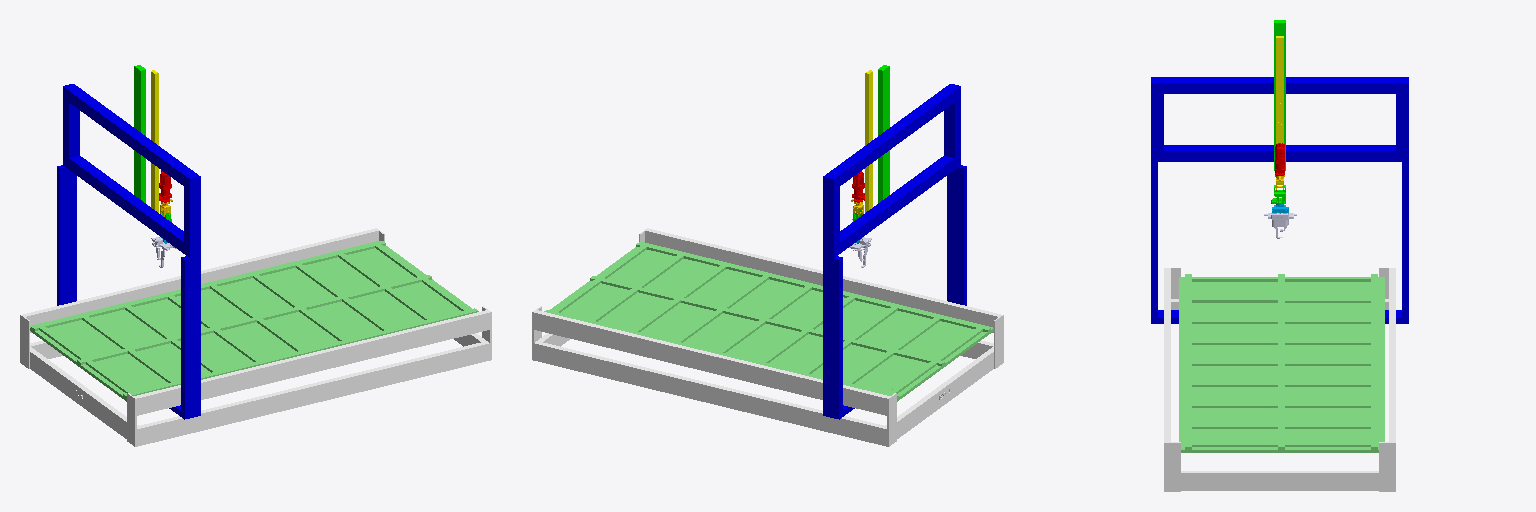
The robot description file, URDF, robot "gantry_robot":
<?xml version="1.0" encoding="utf-8"?>
<!-- =================================================================================== -->
<!-- |    This document was autogenerated by xacro from gantry_robot.urdf.xacro        | -->
<!-- |    EDITING THIS FILE BY HAND IS NOT RECOMMENDED                                 | -->
<!-- =================================================================================== -->
<robot name="gantry_robot">
  <gazebo>
    <plugin filename="libgazebo_ros_control.so" name="ros_control">
      <!--robotNamespace>/slave</robotNamespace-->
      <!--robotSimType>gazebo_ros_control/DefaultRobotHWSim</robotSimType-->
      <legacyModeNS>true</legacyModeNS>
    </plugin>
  </gazebo>
  <transmission name="gantryX_trans">
    <type>transmission_interface/SimpleTransmission</type>
    <joint name="gantryX">
      <hardwareInterface>hardware_interface/PositionJointInterface</hardwareInterface>
    </joint>
    <actuator name="gantryX_motor">
      <mechanicalReduction>1</mechanicalReduction>
    </actuator>
  </transmission>
  <transmission name="gantryY_trans">
    <type>transmission_interface/SimpleTransmission</type>
    <joint name="gantryY">
      <hardwareInterface>hardware_interface/PositionJointInterface</hardwareInterface>
    </joint>
    <actuator name="gantryY_motor">
      <mechanicalReduction>1</mechanicalReduction>
    </actuator>
  </transmission>
  <transmission name="gantryZ_trans">
    <type>transmission_interface/SimpleTransmission</type>
    <joint name="gantryZ">
      <hardwareInterface>hardware_interface/PositionJointInterface</hardwareInterface>
    </joint>
    <actuator name="gantryZ_motor">
      <mechanicalReduction>1</mechanicalReduction>
    </actuator>
  </transmission>
  <transmission name="gantryYAW_trans">
    <type>transmission_interface/SimpleTransmission</type>
    <joint name="gantryYAW">
      <hardwareInterface>hardware_interface/PositionJointInterface</hardwareInterface>
    </joint>
    <actuator name="gantryYAW_motor">
      <mechanicalReduction>1</mechanicalReduction>
    </actuator>
  </transmission>
  <transmission name="gantryPITCH_trans">
    <type>transmission_interface/SimpleTransmission</type>
    <joint name="gantryPITCH">
      <hardwareInterface>hardware_interface/PositionJointInterface</hardwareInterface>
    </joint>
    <actuator name="gantryPITCH_motor">
      <mechanicalReduction>1</mechanicalReduction>
    </actuator>
  </transmission>
  <transmission name="gantryROLL_trans">
    <type>transmission_interface/SimpleTransmission</type>
    <joint name="gantryROLL">
      <hardwareInterface>hardware_interface/PositionJointInterface</hardwareInterface>
    </joint>
    <actuator name="gantryROLL_motor">
      <mechanicalReduction>1</mechanicalReduction>
    </actuator>
  </transmission>
  <gazebo reference="gantryX">
    <selfCollide>true</selfCollide>
  </gazebo>
  <gazebo reference="gantryY">
    <selfCollide>true</selfCollide>
  </gazebo>
  <gazebo reference="gantryZ">
    <selfCollide>true</selfCollide>
  </gazebo>
  <gazebo reference="gantryYAW">
    <selfCollide>true</selfCollide>
  </gazebo>
  <gazebo reference="gantryPITCH">
    <selfCollide>true</selfCollide>
  </gazebo>
  <gazebo reference="gantryROLL">
    <selfCollide>true</selfCollide>
  </gazebo>
  <link name="base_link">
    <!-- fixed structure -->
    <inertial>
      <mass value="1.0"/>
      <inertia ixx="1.0" ixy="0.0" ixz="0.0" iyy="1.0" iyz="0.0" izz="1.0"/>
    </inertial>
    <visual>
      <geometry>
        <mesh filename="package://gantry_description/meshes/Simulation_Base.STL"/>
      </geometry>
      <origin rpy="0 0 0" xyz="0.875 0 0"/>
      <material name="white">
        <color rgba="1 1 1 1"/>
      </material>
    </visual>
    <collision>
      <geometry>
        <mesh filename="package://gantry_description/meshes/Simulation_Base.STL"/>
      </geometry>
      <origin rpy="0 0 0" xyz="0.875 0 0"/>
    </collision>
  </link>
  <joint name="gantryX" type="prismatic">
    <parent link="base_link"/>
    <child link="gantryX_link"/>
    <limit effort="1" lower="0" upper="1.75" velocity="0.5"/>
    <axis xyz="1 0 0"/>
    <origin rpy="0 0 0" xyz="0 0 0.14288"/>
  </joint>
  <link name="gantryX_link">
    <inertial>
      <mass value="1.0"/>
      <inertia ixx="1.0" ixy="0.0" ixz="0.0" iyy="1.0" iyz="0.0" izz="1.0"/>
    </inertial>
    <visual>
      <geometry>
        <mesh filename="package://gantry_description/meshes/Simulation_X_Axis.STL"/>
      </geometry>
      <origin rpy="0 0 0" xyz="0 0 0.5461"/>
      <material name="blue">
        <color rgba="0 0 1 1"/>
      </material>
    </visual>
    <collision>
      <geometry>
        <mesh filename="package://gantry_description/meshes/Simulation_X_Axis.STL"/>
      </geometry>
      <origin rpy="0 0 0" xyz="0 0 0.5461"/>
    </collision>
  </link>
  <joint name="gantryY" type="prismatic">
    <parent link="gantryX_link"/>
    <child link="gantryY_link"/>
    <limit effort="1" lower="-0.5" upper="0.5" velocity="0.5"/>
    <axis xyz="0 1 0"/>
    <origin rpy="0 0 0" xyz="0.077 0 1.49793"/>
  </joint>
  <link name="gantryY_link">
    <inertial>
      <mass value="1.0"/>
      <inertia ixx="1.0" ixy="0.0" ixz="0.0" iyy="1.0" iyz="0.0" izz="1.0"/>
    </inertial>
    <visual>
      <geometry>
        <mesh filename="package://gantry_description/meshes/Simulation_Y_Axis.STL"/>
      </geometry>
      <origin rpy="0 0 0" xyz="0 0 0"/>
      <material name="green">
        <color rgba="0 1 0 1"/>
      </material>
    </visual>
    <collision>
      <geometry>
        <mesh filename="package://gantry_description/meshes/Simulation_Y_Axis.STL"/>
      </geometry>
      <origin rpy="0 0 0" xyz="0 0 0"/>
    </collision>
  </link>
  <joint name="gantryZ" type="prismatic">
    <parent link="gantryY_link"/>
    <child link="gantryZ_link"/>
    <limit effort="1" lower="0.0" upper="0.625" velocity="0.5"/>
    <axis xyz="0 0 -1"/>
    <origin rpy="0 0 0" xyz="0.09843 0 -0.5334"/>
    <!-- xyz="0.09843 0 -0.5334"  -->
  </joint>
  <link name="gantryZ_link">
    <inertial>
      <mass value="0.001"/>
      <inertia ixx="0.001" ixy="0.0" ixz="0.0" iyy="0.001" iyz="0.0" izz="0.001"/>
    </inertial>
    <visual>
      <geometry>
        <mesh filename="package://gantry_description/meshes/Simulation_Z_Axis.STL"/>
      </geometry>
      <origin rpy="0 1.5707 0" xyz="0 0 0"/>
      <material name="yellow">
        <color rgba="1 1 0 1"/>
      </material>
    </visual>
    <collision>
      <geometry>
        <mesh filename="package://gantry_description/meshes/Simulation_Z_Axis.STL"/>
      </geometry>
      <origin rpy="0 1.5707 0" xyz="0 0 0"/>
    </collision>
  </link>
  <!--  YAW ADDITION START -->
  <joint name="gantryYAW_Motor" type="fixed">
    <parent link="gantryZ_link"/>
    <child link="gantryYAW_Motor_link"/>
    <origin rpy="0 1.5707 0" xyz="0.0754 0.0 0.1"/>
    <!-- "0 1.5707 0" xyz="0.0754 0.0 0.1" -->
  </joint>
  <link name="gantryYAW_Motor_link">
    <inertial>
      <mass value="0.001"/>
      <inertia ixx="0.001" ixy="0.00" ixz="0.00" iyy="0.001" iyz="0.00" izz="0.001"/>
    </inertial>
    <visual>
      <geometry>
        <mesh filename="package://gantry_description/meshes/roll_motor.STL" scale="0.001 0.001 0.001"/>
      </geometry>
      <material name="white">
        <color rgba="1 0 0 1"/>
      </material>
    </visual>
    <origin rpy="0 0 0" xyz="0 0 0"/>
    <collision>
      <geometry>
        <mesh filename="package://gantry_description/meshes/roll_motor.STL" scale="0.001 0.001 0.001"/>
      </geometry>
    </collision>
  </link>
  <joint name="gantryYAW" type="revolute">
    <parent link="gantryZ_link"/>
    <child link="gantryYAW_link"/>
    <origin rpy="0 1.5707 0" xyz="0.075 0.0 0.1"/>
    <!-- xyz="0.0754 0.0 0.1" -->
    <limit effort="1" lower="-3.1415" upper="3.1415" velocity="3.15"/>
    <axis xyz="1 0 0"/>
  </joint>
  <link name="gantryYAW_link">
    <inertial>
      <mass value="0.001"/>
      <inertia ixx="0.001" ixy="0.00" ixz="0.00" iyy="0.001" iyz="0.00" izz="0.001"/>
    </inertial>
    <visual>
      <geometry>
        <mesh filename="package://gantry_description/meshes/roll_mini.STL" scale="0.001 0.001 0.001"/>
      </geometry>
      <material name="gold">
        <color rgba="1 0.84 0 1"/>
      </material>
    </visual>
    <origin rpy="0 0 0" xyz="0 0 0"/>
    <collision>
      <geometry>
        <mesh filename="package://gantry_description/meshes/roll_mini.STL" scale="0.001 0.001 0.001"/>
      </geometry>
    </collision>
  </link>
  <!--   YAW ADDITION END -->
  <!--  PITCH ADDITION START -->
  <joint name="gantryPITCH" type="revolute">
    <parent link="gantryYAW_link"/>
    <child link="gantryPITCH_link"/>
    <origin rpy="0 0 0" xyz="0.0859 0.0 0.0 "/>
    <limit effort="1" lower="-1.5707" upper="1.5707" velocity="3.15"/>
    <axis xyz="0 1 0"/>
  </joint>
  <link name="gantryPITCH_link">
    <inertial>
      <mass value="0.001"/>
      <inertia ixx="0.001" ixy="0.00" ixz="0.00" iyy="0.001" iyz="0.00" izz="0.001"/>
    </inertial>
    <visual>
      <geometry>
        <mesh filename="package://gantry_description/meshes/pitch.STL" scale="0.001 0.001 0.001"/>
      </geometry>
      <material name="green">
        <color rgba="0 1 0 1"/>
      </material>
    </visual>
    <origin rpy="1.5707 0 0" xyz="0 0 0"/>
    <collision>
      <geometry>
        <mesh filename="package://gantry_description/meshes/pitch.STL" scale="0.001 0.001 0.001"/>
      </geometry>
    </collision>
  </link>
  <!--  PITCH ADDITION END -->
  <!--  ROLL ADDITION START -->
  <joint name="gantryROLL" type="revolute">
    <parent link="gantryPITCH_link"/>
    <child link="gantryROLL_link"/>
    <origin rpy="0 0 0" xyz="0.098 0.0 0.0"/>
    <!-- xyz="0.098 0.0 0.0 -->
    <limit effort="1" lower="-3.1415" upper="3.1415" velocity="3.15"/>
    <axis xyz="1 0 0"/>
  </joint>
  <link name="gantryROLL_link">
    <inertial>
      <mass value="0.001"/>
      <inertia ixx="0.001" ixy="0.00" ixz="0.001" iyy="1.0" iyz="0.00" izz="0.001"/>
    </inertial>
    <visual>
      <geometry>
        <mesh filename="package://gantry_description/meshes/yaw.STL" scale="0.001 0.001 0.001"/>
      </geometry>
      <material name="deep_blue">
        <color rgba="0 0.75 1 1"/>
      </material>
    </visual>
    <origin rpy="1.5707 0 0" xyz="0 0 0"/>
    <collision>
      <geometry>
        <mesh filename="package://gantry_description/meshes/yaw.STL" scale="0.001 0.001 0.001"/>
      </geometry>
    </collision>
  </link>
  <!--  ROLL ADDITION END -->
  <!--  IN-HAND ADDITION START -->
  <joint name="inhand_cam_joint" type="fixed">
    <parent link="gantryROLL_link"/>
    <child link="inhand_link"/>
    <origin rpy="0.0 0.0 0.0" xyz="0.12403 0.0294 0.05638"/>
  </joint>
  <link name="inhand_link">
    <inertial>
      <mass value="0.001"/>
      <inertia ixx="0.001" ixy="0.00" ixz="0.001" iyy="1.0" iyz="0.00" izz="0.001"/>
    </inertial>
    <visual>
      <geometry>
        <mesh filename="package://gantry_description/meshes/in-hand.STL" scale="0.001 0.001 0.001"/>
      </geometry>
      <material name="grey">
        <color rgba="0.9 0.9 1 1"/>
      </material>
    </visual>
    <origin rpy="0 0 0" xyz="0 0 0"/>
    <collision>
      <geometry>
        <mesh filename="package://gantry_description/meshes/in-hand.STL" scale="0.001 0.001 0.001"/>
      </geometry>
    </collision>
  </link>
  <!--  IN-HAND ADDITION END -->
  <!--  GRIPPER ADDITION START-->
  <joint name="gripper_joint" type="fixed">
    <parent link="gantryROLL_link"/>
    <child link="gripper_link"/>
    <origin rpy="0.0 0.0 0.0" xyz="0.08738 0.017 0.0 "/>
    <!--"0.0875 0.0127 0"-->
  </joint>
  <link name="gripper_link">
    <inertial>
      <mass value="0.001"/>
      <inertia ixx="0.001" ixy="0.00" ixz="0.001" iyy="1.0" iyz="0.00" izz="0.001"/>
    </inertial>
    <visual>
      <geometry>
        <mesh filename="package://gantry_description/meshes/gripper.STL" scale="0.001 0.001 0.001"/>
      </geometry>
      <material name="grey">
        <color rgba="0.9 0.9 1 1"/>
      </material>
    </visual>
    <origin rpy="0 0 0" xyz="0 0 0"/>
    <collision>
      <geometry>
        <mesh filename="package://gantry_description/meshes/gripper.STL" scale="0.001 0.001 0.001"/>
      </geometry>
    </collision>
  </link>
  <!--  GRIPPER ADDITION END -->
  <joint name="ee_fixed_joint" type="fixed">
    <parent link="gripper_link"/>
    <child link="ee_link"/>
    <origin rpy="0.0 0.0 0.0" xyz="0.156 0.00925 -0.03188"/>
    <!-- xyz="0.225 0 -0.03175" 0.24 0 0 -->
  </joint>
  <link name="ee_link">
    <origin rpy="0 0 0" xyz="0 0 0"/>
    <collision>
      <geometry>
        <box size="0.015 0.015 0.015"/>
      </geometry>
    </collision>
    <inertial>
      <mass value="0.001"/>
      <inertia ixx="0.001" ixy="0.0" ixz="0.0" iyy="0.001" iyz="0.0" izz="0.001"/>
    </inertial>
  </link>
  <!-- ROS base_link to UR 'Base' Coordinates transform -->
  <!--link name="base"/>
  <joint name="base_link-base_fixed_joint" type="fixed">
      <origin xyz="0 0 0" rpy="0 0 0"/>
      <parent link="${prefix}base_link"/>
      <child link="${prefix}base"/>
    </joint-->
  <!-- Frame coincident with all-zeros TCP on UR controller -->
  <!--link name="${prefix}tool0"/>
    <joint name="${prefix}gantryYAW_link-tool0_fixed_joint" type="fixed">
      <origin xyz="0 0 -0.24" rpy="0 0 0"/>
      <parent link="${prefix}gantryYAW_link"/>
      <child link="${prefix}tool0"/>
    </joint-->
  <!--link name="world" />
    <joint name="world_joint" type="fixed">
        <parent link="world" />
        <child link="base_link" />
        <origin rpy="0.0 0.0 0.0" xyz="0.0 0.0 0.0" />
    </joint-->
  <!--transmission name="trans_gantryX">
        <type>transmission_interface/SimpleTransmission</type>
        <joint name="gantryX">
            <hardwareInterface>hardware_interface/PositionJointInterface</hardwareInterface>
        </joint>
        <actuator name="gantryX_motor">
            <hardwareInterface>hardware_interface/PositionJointInterface</hardwareInterface>
            <mechanicalReduction>1</mechanicalReduction>
        </actuator>
    </transmission>

    <transmission name="trans_gantryY">
        <type>transmission_interface/SimpleTransmission</type>
        <joint name="gantryY">
            <hardwareInterface>hardware_interface/PositionJointInterface</hardwareInterface>
        </joint>
        <actuator name="gantryY_motor">
            <hardwareInterface>hardware_interface/PositionJointInterface</hardwareInterface>
            <mechanicalReduction>1</mechanicalReduction>
        </actuator>
    </transmission>

    <transmission name="trans_gantryZ">
        <type>transmission_interface/SimpleTransmission</type>
        <joint name="gantryZ">
            <hardwareInterface>hardware_interface/PositionJointInterface</hardwareInterface>
        </joint>
        <actuator name="gantryZ_motor">
            <hardwareInterface>hardware_interface/PositionJointInterface</hardwareInterface>
            <mechanicalReduction>1</mechanicalReduction>
        </actuator>
    </transmission>

    <gazebo>
        <plugin name="gazebo_ros_control" filename="libgazebo_ros_control.so">
            <robotNamespace>/</robotNamespace>
        </plugin>
    </gazebo-->
  <!-- base plate link definition -->
  <link name="base_plate">
    <inertial>
      <mass value="1.0"/>
      <inertia ixx="1.0" ixy="0.0" ixz="0.0" iyy="1.0" iyz="0.0" izz="1.0"/>
    </inertial>
    <visual>
      <geometry>
        <mesh filename="package://gantry_description/meshes/gantry_base_plate.stl"/>
      </geometry>
      <origin rpy="0 0 0" xyz="-1.25 -0.6 -0.01"/>
      <material name="light_green">
        <color rgba="0.56 0.93 0.56 1"/>
      </material>
    </visual>
    <collision>
      <geometry>
        <mesh filename="package://gantry_description/meshes/gantry_base_plate.stl"/>
      </geometry>
      <origin rpy="0 0 0" xyz="-1.25 -0.6 -0.01"/>
    </collision>
  </link>
  <!-- Fixed joints to attach the base plate -->
  <joint name="base_plate_to_side" type="fixed">
    <parent link="base_link"/>
    <child link="base_plate"/>
    <origin rpy="0 0 0" xyz="0.91 0 0.255"/>
  </joint>
  <!-- Plant Pot 1 (Visual Only, No Collision, Light Green Color) -->
  <link name="plant_pot_1">
    <visual>
      <geometry>
        <mesh filename="package://gantry_description/meshes/plantpot.stl" scale="0.1 0.1 0.1"/>
      </geometry>
      <origin rpy="1.57 0 0" xyz="0.14 0.4 0"/>
      <material name="light_green">
        <color rgba="0.56 0.93 0.56 1"/>
      </material>
    </visual>
  </link>
  <joint name="plant_pot_1_joint" type="fixed">
    <parent link="base_plate"/>
    <child link="plant_pot_1"/>
    <origin rpy="0 0 0" xyz="0 0 0"/>
  </joint>
  <!-- Plant Pot 2 (Visual Only, No Collision, Light Green Color) -->
  <link name="plant_pot_2">
    <visual>
      <geometry>
        <mesh filename="package://gantry_description/meshes/plantpot.stl" scale="0.1 0.1 0.1"/>
      </geometry>
      <origin rpy="1.57 0 0" xyz="0.14 0.325 0"/>
      <material name="light_green">
        <color rgba="0.56 0.93 0.56 1"/>
      </material>
    </visual>
  </link>
  <joint name="plant_pot_2_joint" type="fixed">
    <parent link="base_plate"/>
    <child link="plant_pot_2"/>
    <origin rpy="0 0 0" xyz="0 0 0"/>
  </joint>
  <!--  <link name="world" />-->
  <!--  <joint name="world_joint" type="fixed">-->
  <!--    <parent link="world" />-->
  <!--    <child link = "base_link" />-->
  <!--    <origin xyz="0.0 0.0 0.0" rpy="0.0 0.0 0.0" />-->
  <!--  </joint>-->
</robot>

--- Facts derived from the render (not from the file) ---
Views: 3 orthographic renders of the robot side by side, from view 1: azimuth 30°, elevation 25°; view 2: azimuth 150°, elevation 25°; view 3: azimuth 270°, elevation 25°.
Model gantry_robot with 14 links and 13 joints (3 revolute, 3 prismatic, 7 fixed), rooted at base_link, posed all joints at 0.
Visible links, largest first — view 1: base_plate, base_link, gantryX_link, gantryY_link, gantryZ_link; view 2: base_plate, base_link, gantryX_link, gantryY_link, gantryZ_link; view 3: base_plate, gantryX_link, base_link, gantryZ_link, gantryY_link.
Boxes of the visible links, x1=… form: base_plate: x1=30, y1=241, x2=478, y2=401; base_link: x1=20, y1=228, x2=491, y2=446; gantryX_link: x1=57, y1=84, x2=200, y2=419; gantryY_link: x1=134, y1=65, x2=145, y2=202; gantryZ_link: x1=151, y1=70, x2=158, y2=212; base_plate: x1=544, y1=242, x2=993, y2=401; base_link: x1=532, y1=228, x2=1003, y2=446; gantryX_link: x1=823, y1=84, x2=966, y2=419; gantryY_link: x1=878, y1=65, x2=889, y2=202; gantryZ_link: x1=865, y1=70, x2=872, y2=212; base_plate: x1=1179, y1=274, x2=1384, y2=452; gantryX_link: x1=1151, y1=77, x2=1408, y2=323; base_link: x1=1164, y1=268, x2=1395, y2=491; gantryZ_link: x1=1276, y1=36, x2=1283, y2=182; gantryY_link: x1=1274, y1=20, x2=1285, y2=170.
Size in the robot's own frame: 2.46 by 1.52 by 2.12 metres.
11 mesh visuals loaded from 12 distinct referenced files (11 binary STL); not drawn: 2 (reference not matched to a file when rendering).
